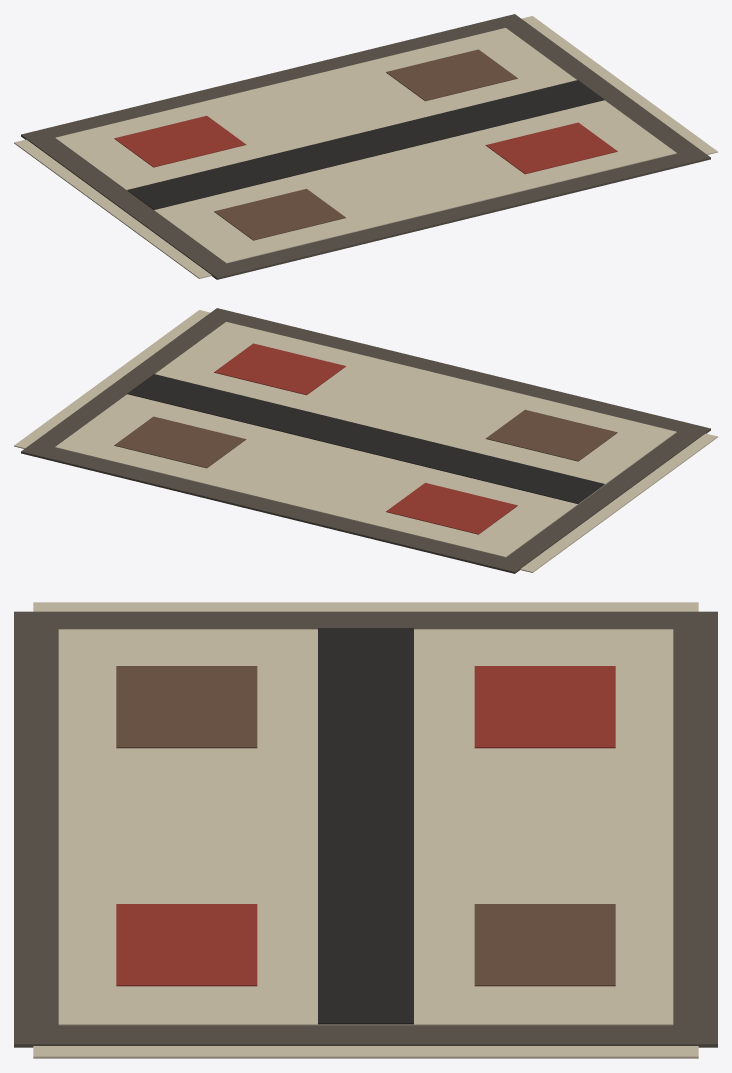
Rendered from rug-medium.glb.
3 renders of one model, top to bottom at view 1: azimuth 30°, elevation 25°; view 2: azimuth 150°, elevation 25°; view 3: azimuth 270°, elevation 25°, orthographic. The views are drawn at different scales.
Parts seen in each view (by area): view 1: paper, fabric, plastic-dark, accent-warm, wood; view 2: paper, fabric, plastic-dark, wood, accent-warm; view 3: paper, fabric, plastic-dark, wood, accent-warm.
Part boxes in pixels (x1,y1,x2,y2): paper: (14,16,717,278); fabric: (21,14,710,279); plastic-dark: (127,80,604,209); accent-warm: (114,115,617,174); wood: (214,49,517,240); paper: (14,310,717,572); fabric: (21,308,710,573); plastic-dark: (127,374,604,503); wood: (114,409,617,468); accent-warm: (214,343,517,534); paper: (33,602,698,1058); fabric: (14,611,717,1047); plastic-dark: (318,628,413,1024); wood: (116,666,615,986); accent-warm: (116,666,615,986).
Size of the model in its own units: 1.68 by 0.01 by 1.1.
